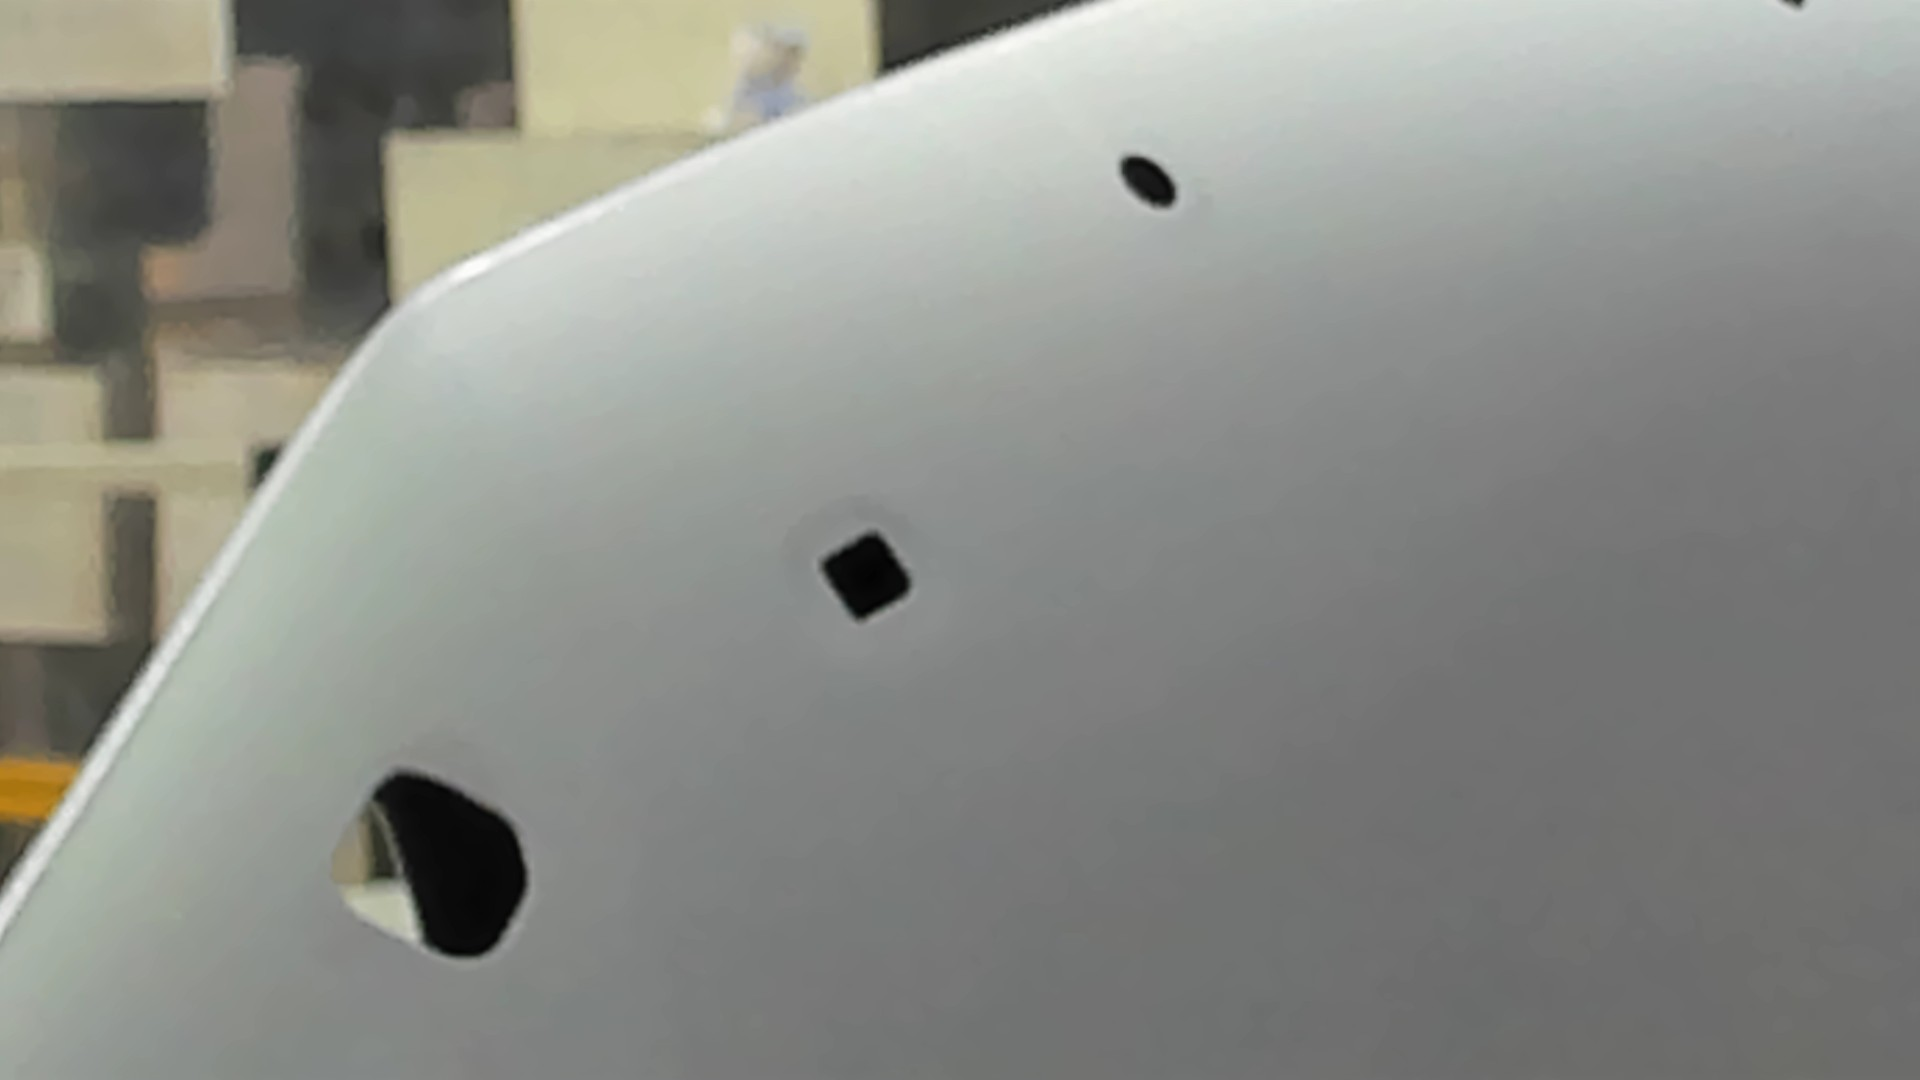capo: (922, 222, 1920, 1080)
chico: (1112, 146, 1183, 218)
grande: (320, 760, 535, 972)
mediano: (810, 526, 918, 626)
